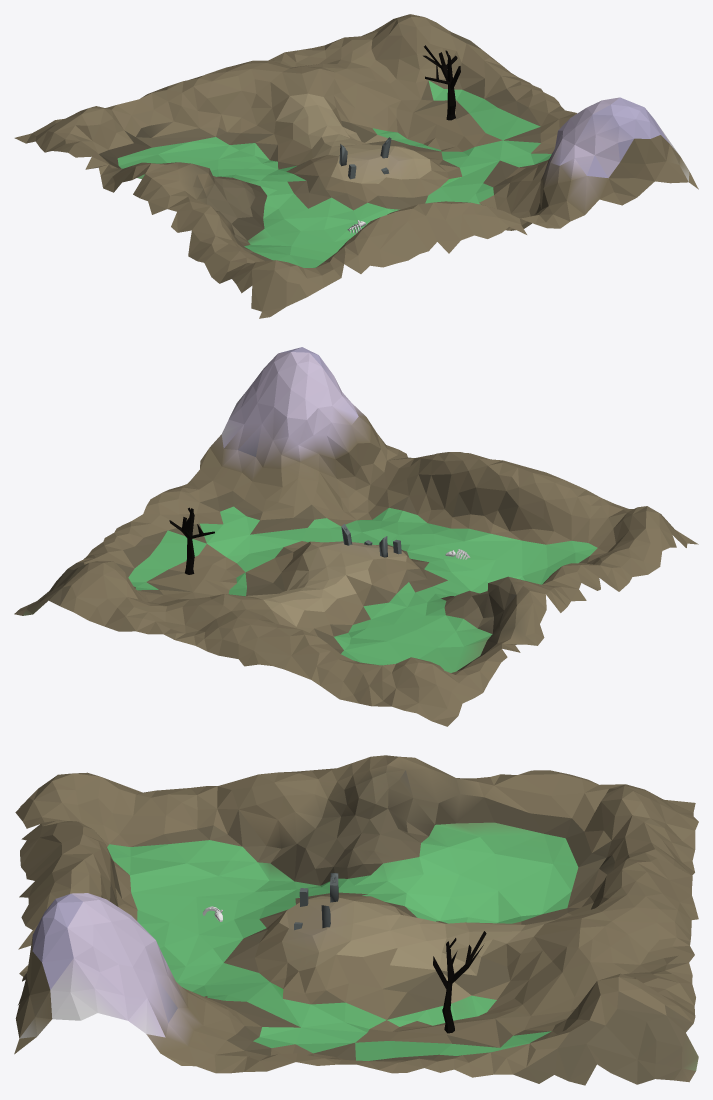
3 renders of one model, top to bottom at view 1: azimuth 30°, elevation 25°; view 2: azimuth 150°, elevation 25°; view 3: azimuth 270°, elevation 25°, orthographic. The views are drawn at different scales.
Visible parts, largest first — view 1: Plane, Cylinder; view 2: Plane, Cylinder; view 3: Plane, Cylinder.
Part boxes in pixels (x1=…): Plane: x1=14, y1=14, x2=698, y2=318; Cylinder: x1=423, y1=45, x2=460, y2=120; Plane: x1=14, y1=347, x2=698, y2=726; Cylinder: x1=169, y1=507, x2=214, y2=574; Plane: x1=14, y1=755, x2=698, y2=1085; Cylinder: x1=433, y1=931, x2=486, y2=1033.
Size of the model in its own units: 19.98 by 5.46 by 20.
